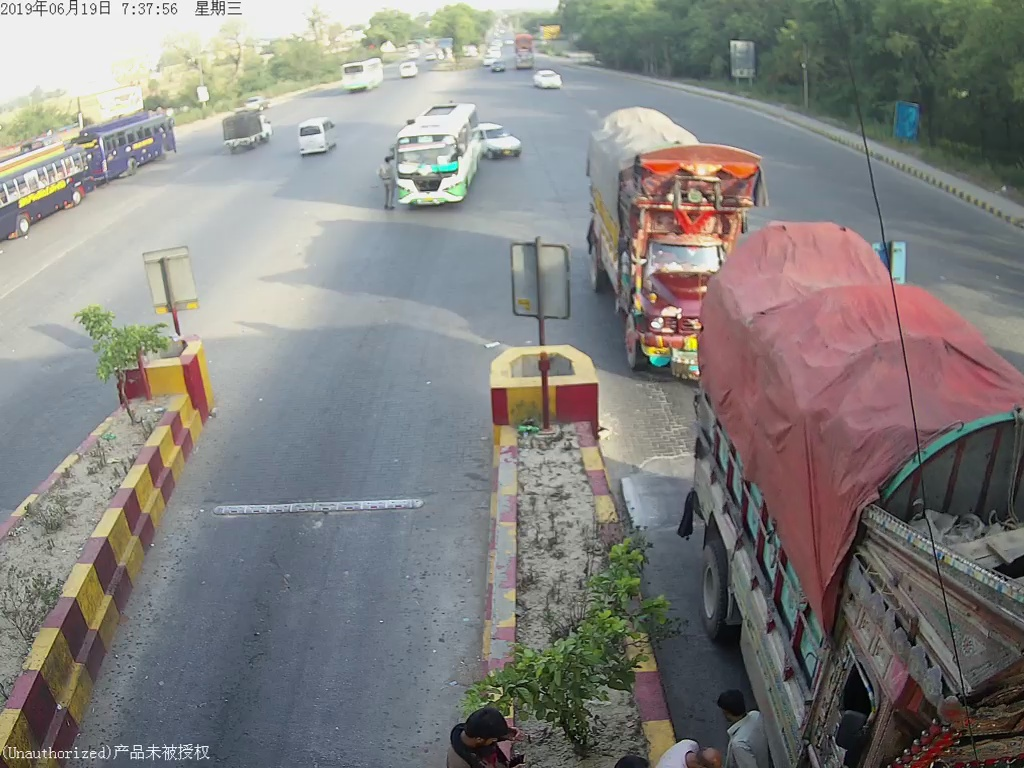Cat-1: (480, 119, 526, 165)
Cat-3: (389, 96, 481, 209)
Cat-4: (579, 112, 755, 372)
